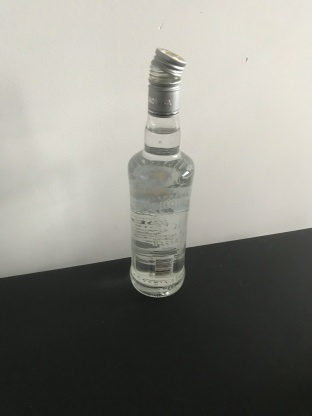nakretka: (146, 45, 188, 118)
